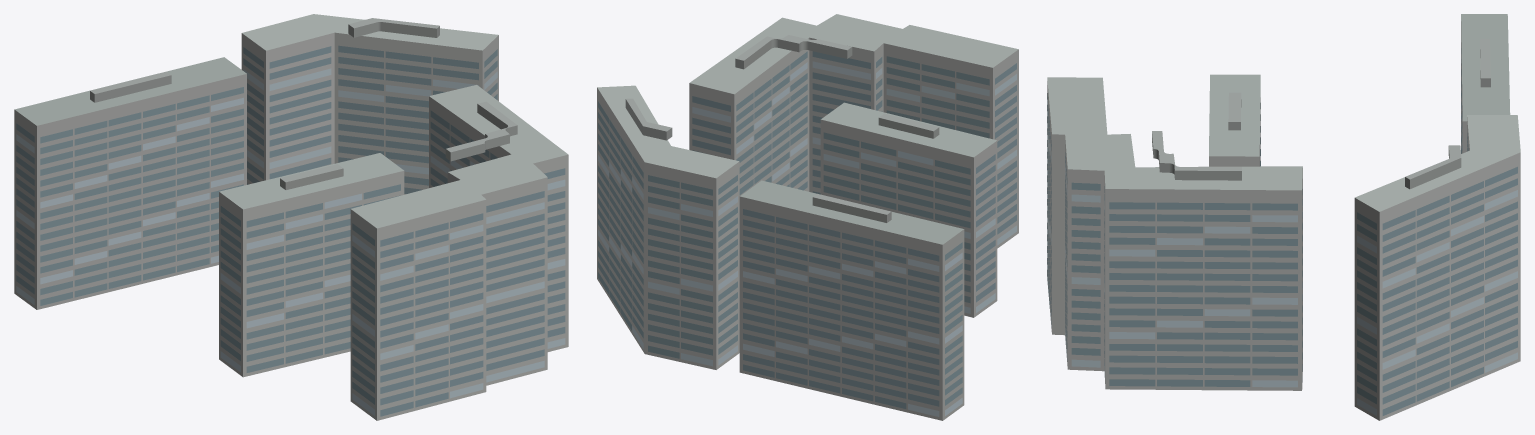
The model's file is apt-a15780602.glb.
The picture shows the model from 3 angles, left to right: view 1: azimuth 30°, elevation 25°; view 2: azimuth 150°, elevation 25°; view 3: azimuth 270°, elevation 25°; orthographic projection. The views are drawn at different scales.
Parts seen in each view (by area): view 1: apt-a15780602; view 2: apt-a15780602; view 3: apt-a15780602.
Part boxes in pixels (x1,y1,x2,y2): apt-a15780602: [14, 14, 568, 420]; apt-a15780602: [597, 14, 1018, 420]; apt-a15780602: [1047, 14, 1520, 420].
Size of the model in its own units: 103 by 49 by 96.13.
